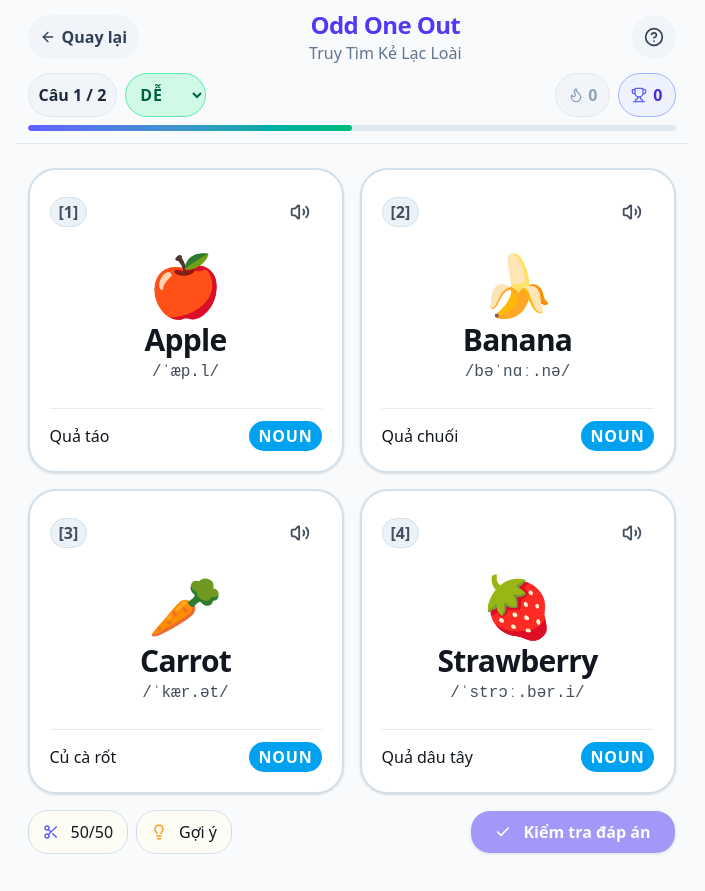
it: OddOneOutPage Integration Suite › allows selecting a card, checking correct answer, reveals explanation banner, plays correct sound, and tracks question
Note: Select the odd item: Carrot
Click the button with test id "semantic-card-q1-carrot" at (186, 642), box [28, 489, 344, 794]
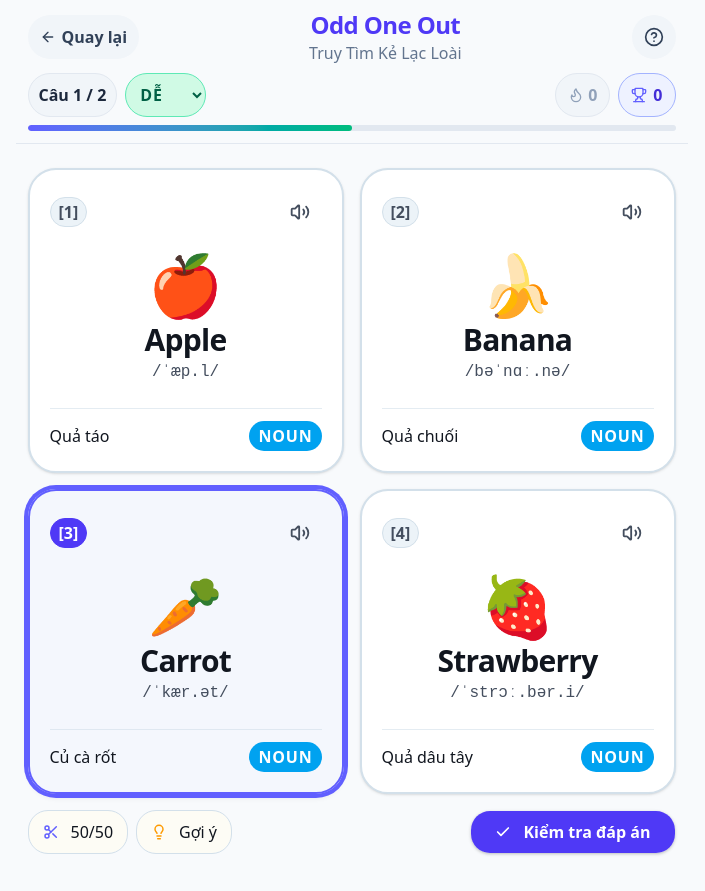
Expected: the button with test id "check-answer-btn" is enabled
Click the button with test id "check-answer-btn" at (573, 832), box [470, 810, 676, 854]
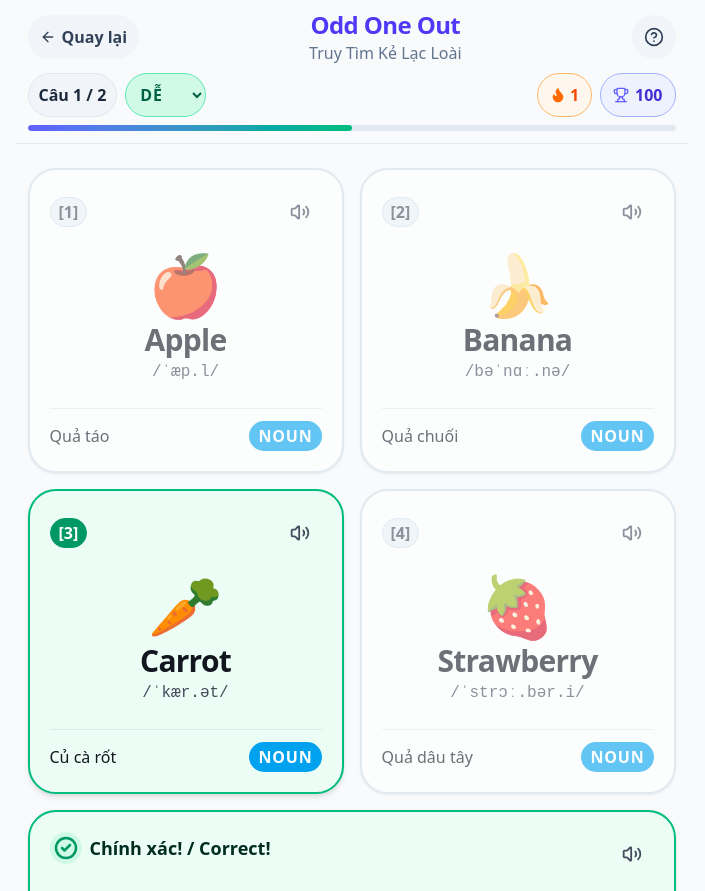
Expected: the element with test id "score-display" reads "100", [635, 84, 662, 106]
